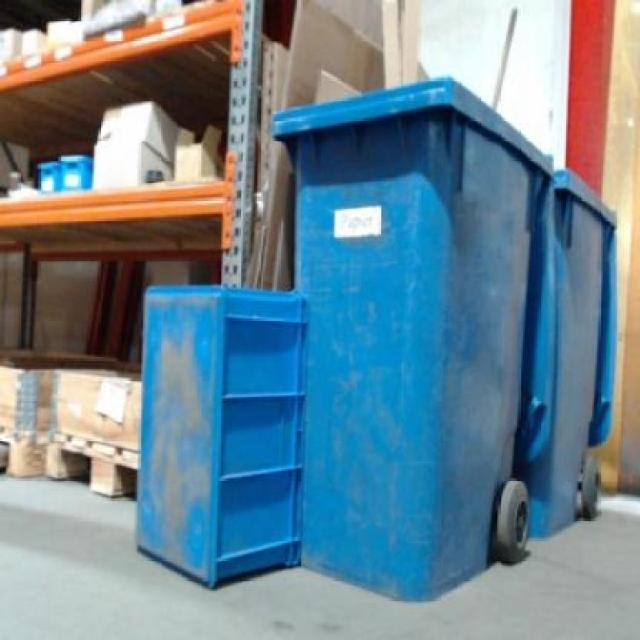pallets: (271, 77, 549, 597), (135, 285, 303, 583), (514, 169, 614, 534)
